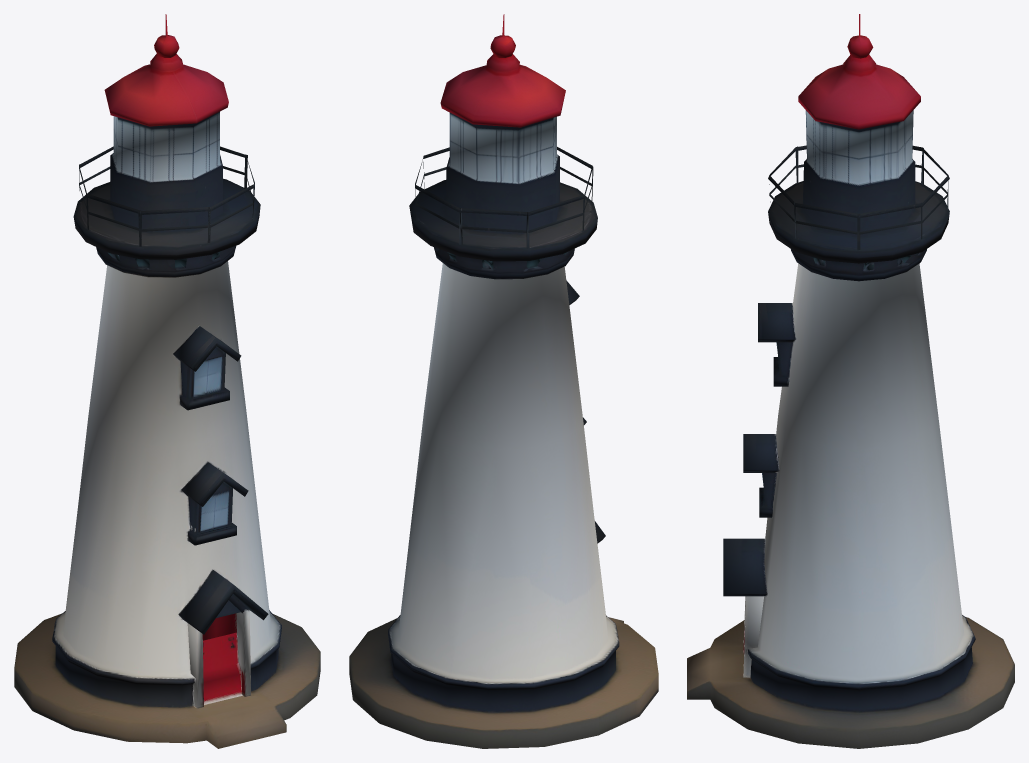
Rendered from lighthouse 3d model.glb.
3 renders of one model, left to right at view 1: azimuth 30°, elevation 25°; view 2: azimuth 150°, elevation 25°; view 3: azimuth 270°, elevation 25°, orthographic.
Visible parts, largest first — view 1: tripo_node_9292d987-9759-4f4b-960f-21226eeff30a; view 2: tripo_node_9292d987-9759-4f4b-960f-21226eeff30a; view 3: tripo_node_9292d987-9759-4f4b-960f-21226eeff30a.
Part boxes in pixels (x1,y1,x2,y2): tripo_node_9292d987-9759-4f4b-960f-21226eeff30a: [14, 14, 320, 748]; tripo_node_9292d987-9759-4f4b-960f-21226eeff30a: [349, 14, 658, 748]; tripo_node_9292d987-9759-4f4b-960f-21226eeff30a: [687, 14, 1014, 748].
Size of the model in its own units: 0.4238 by 0.998 by 0.4434.
Materials: 1 (1 with a texture image).
